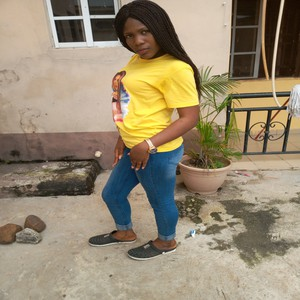Fulokoja_female_student: (111, 6, 181, 247)
